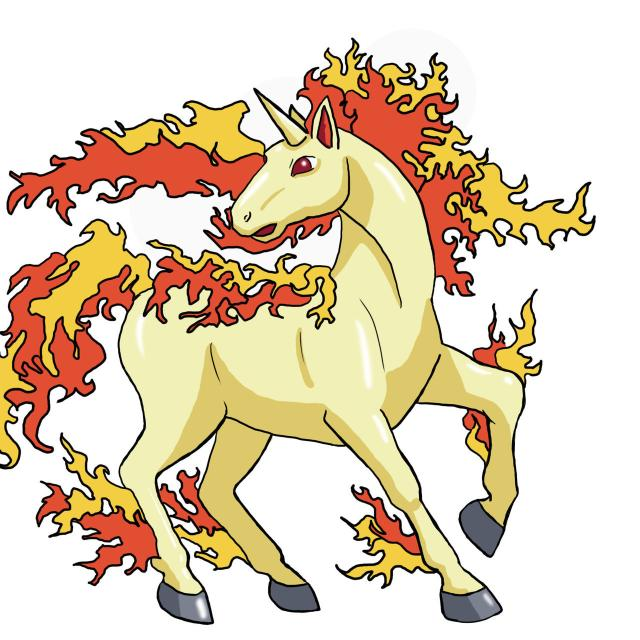Rapidash: (90, 86, 532, 628)
